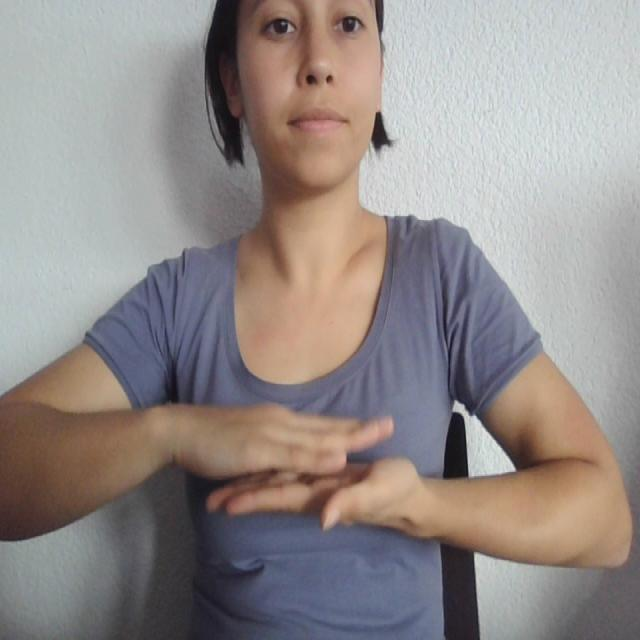Arkadas: (120, 376, 554, 556)
